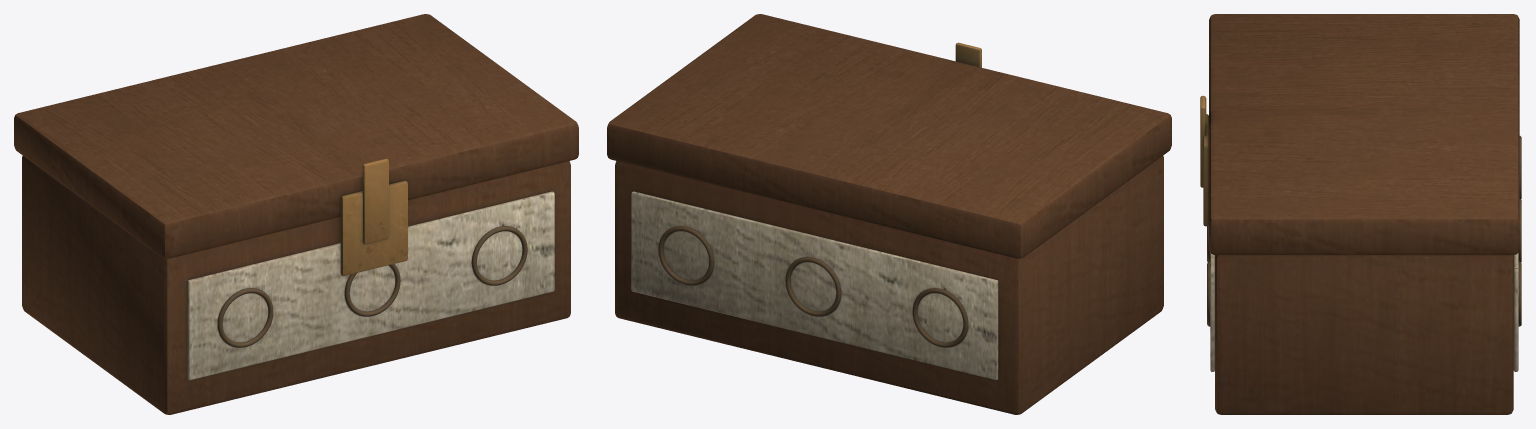
Rendered from wooden_casket.glb.
3 views of the same model, side by side, from view 1: azimuth 30°, elevation 25°; view 2: azimuth 150°, elevation 25°; view 3: azimuth 270°, elevation 25° (orthographic).
Parts seen in each view (by area): view 1: wooden_casket; view 2: wooden_casket; view 3: wooden_casket.
Part boxes in pixels (left/top/right/bottom): wooden_casket: left=14, top=14, right=578, bottom=414; wooden_casket: left=607, top=14, right=1171, bottom=414; wooden_casket: left=1200, top=14, right=1521, bottom=414.
Bounding box in the file's own units: 0.164 × 0.0795 × 0.1077.
1 material, 1 textured.
